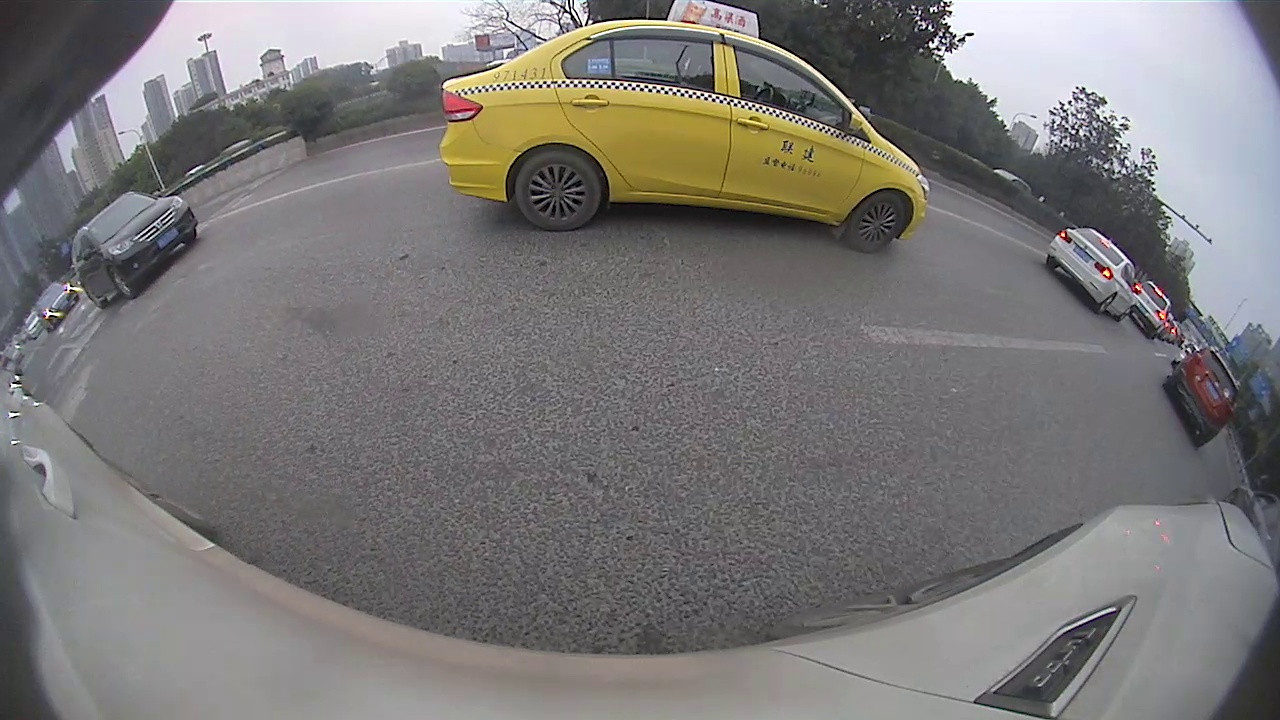car: (437, 1, 930, 254), (71, 191, 198, 309), (1045, 227, 1136, 322), (1164, 348, 1237, 448), (32, 280, 81, 332), (1135, 279, 1172, 343)
front: (848, 191, 907, 252), (111, 270, 139, 299)
rear: (514, 149, 605, 234), (84, 281, 107, 306), (1097, 294, 1117, 315)
